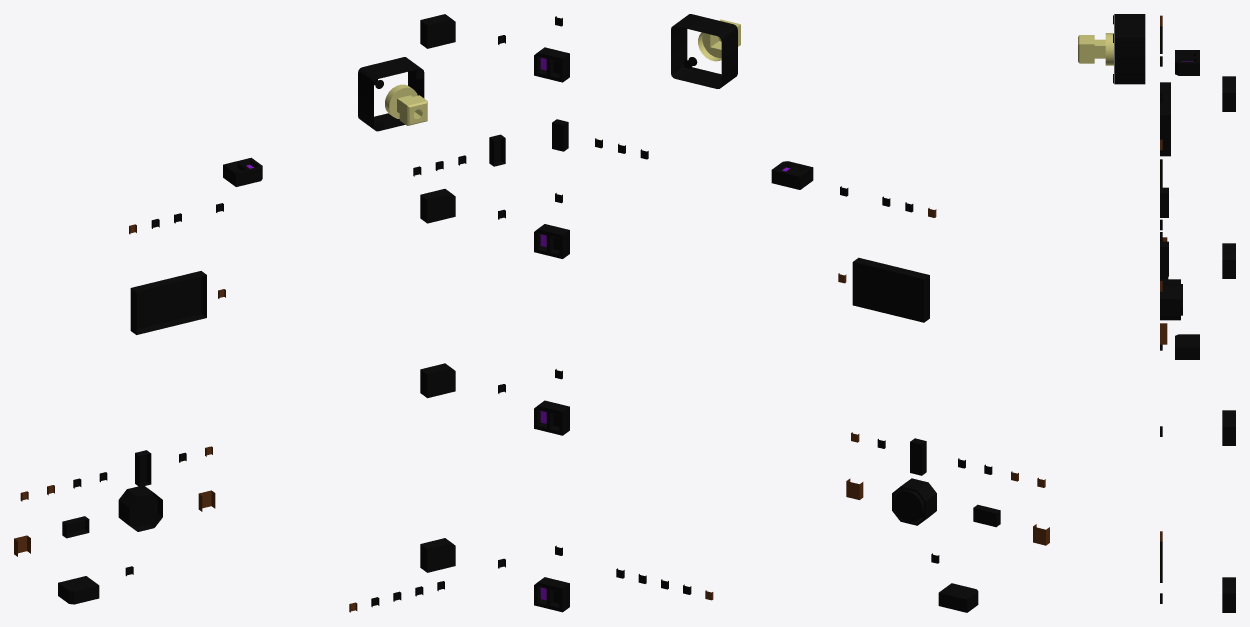
The model's file is Devices.obj.
The picture shows the model from 3 angles, left to right: view 1: azimuth 30°, elevation 25°; view 2: azimuth 150°, elevation 25°; view 3: azimuth 270°, elevation 25°; orthographic projection. The views are drawn at different scales.
Parts seen in each view (by area): view 1: devices_driver; view 2: devices_driver; view 3: devices_driver.
Boxes of the visible parts, bbox=[...] form: devices_driver: bbox=[14, 14, 505, 612]; devices_driver: bbox=[534, 14, 1049, 612]; devices_driver: bbox=[1078, 14, 1235, 612].
Size of the model in its own units: 0.0585 by 0.0642 by 0.0172.
